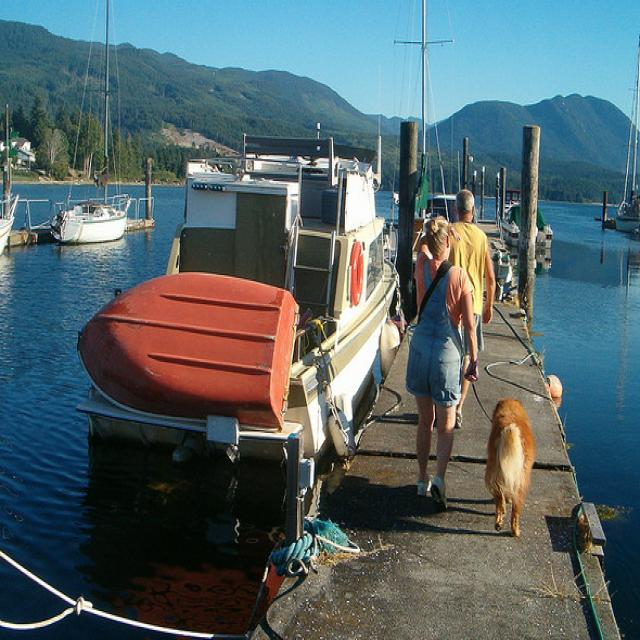houseboat: (76, 103, 430, 463)
